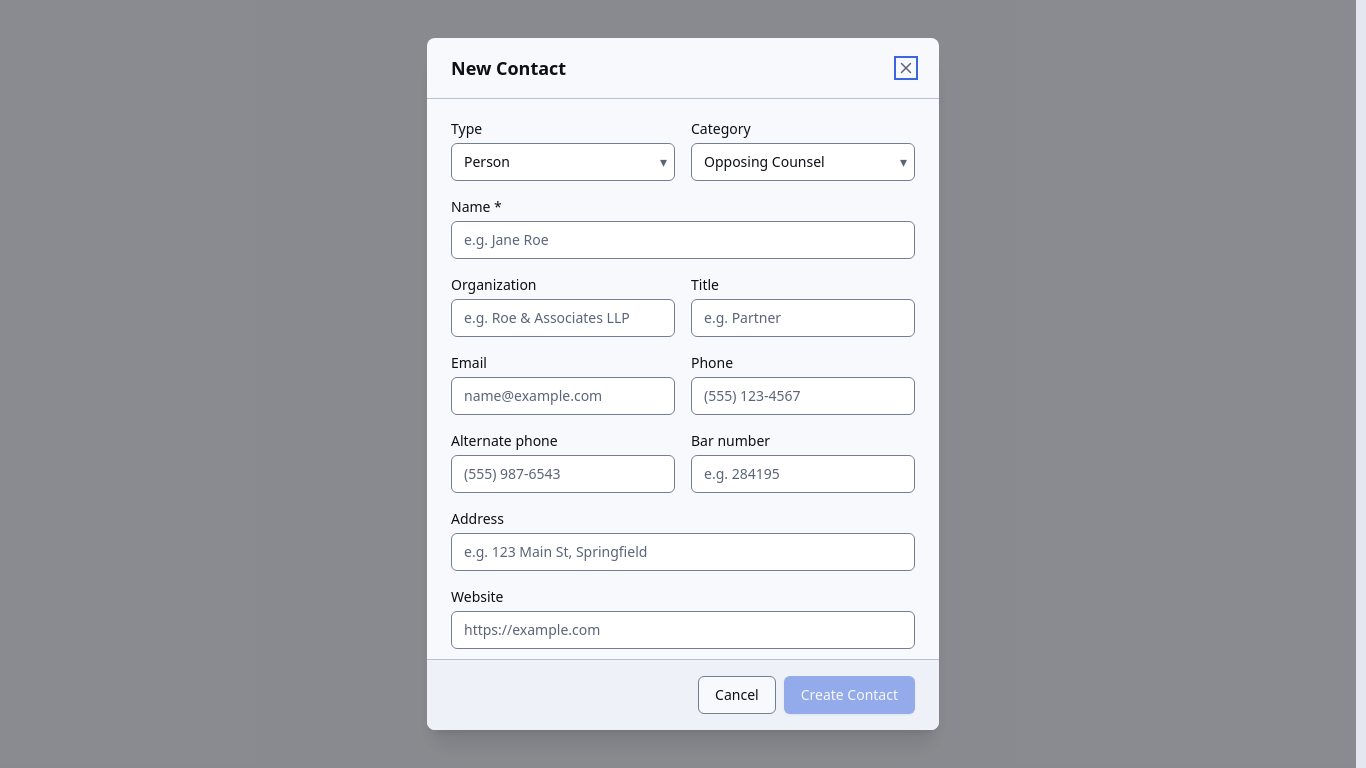
Test: autocompletes an organization in the contact form
In the dropdown labelled "Organization": {"x": 563, "y": 318} [451,299,675,337], type "delgado"
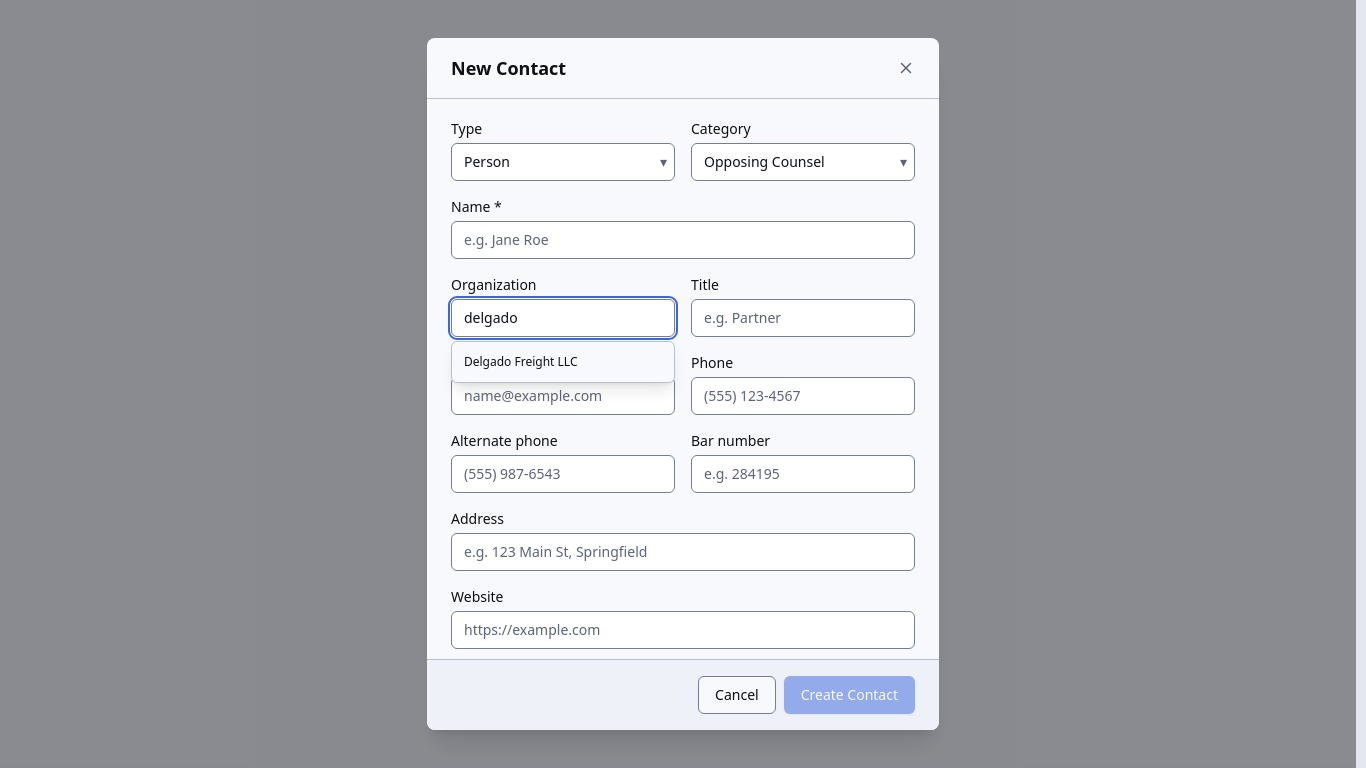
Click the option "Delgado Freight LLC": {"x": 521, "y": 362} [464,353,578,370]
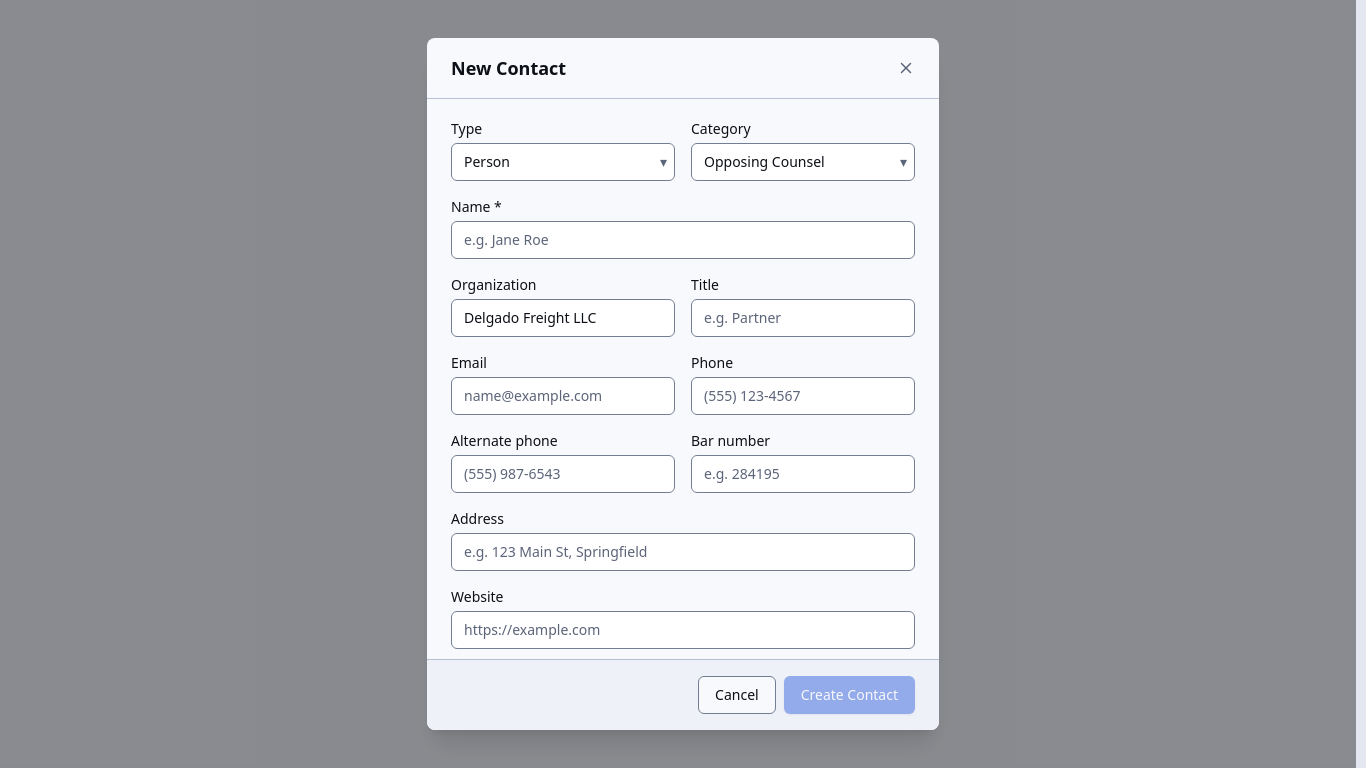
Expected: the dropdown labelled "Organization" holds "Delgado Freight LLC", [451,299,675,337]
